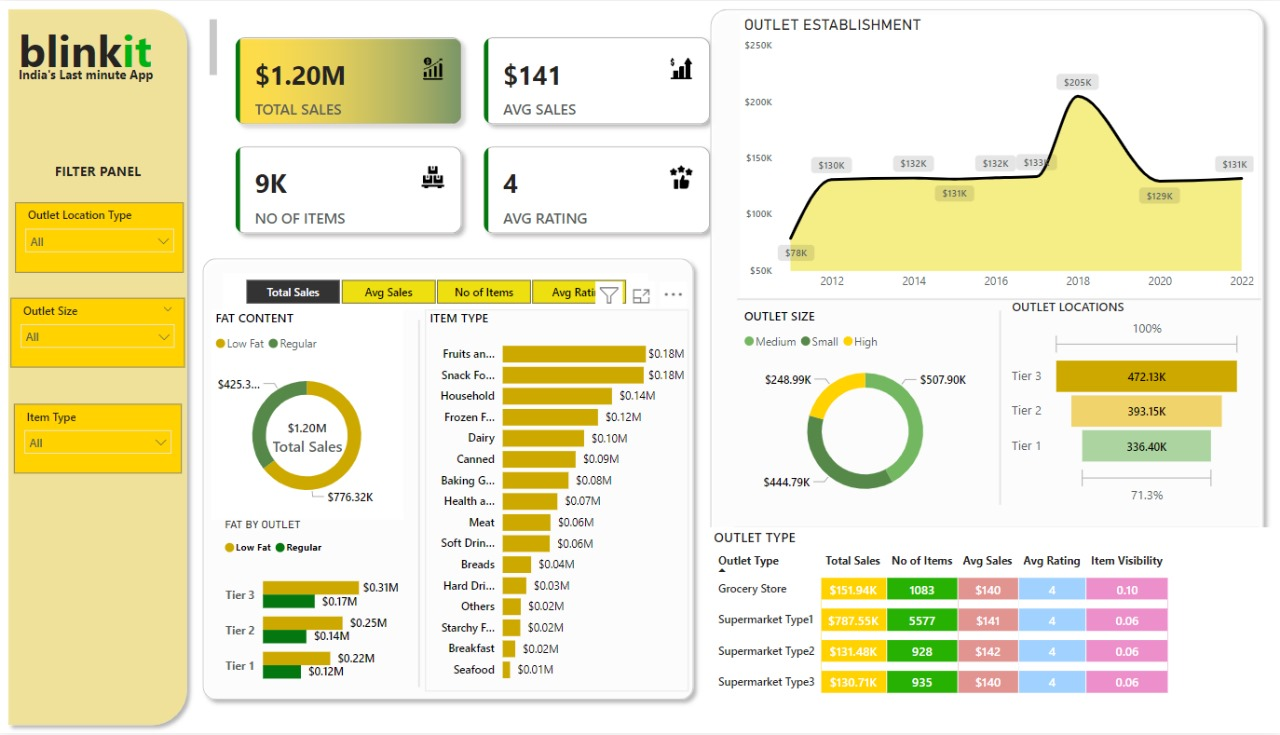

Layout of this report page (visuals, bound fields, positions):
{"tool":"powerbi","page":{"name":"Page 1","canvas":[1400,800],"ordinal":0},"visuals":[{"type":"shape","box":[0,0,213.3,800],"z":500},{"type":"textbox","box":[15.8,66.7,182.5,28.3],"z":1000},{"type":"textbox","box":[15.8,15,226.7,72.5],"z":2000},{"type":"cardVisual","fields":{"Data":["BlinkIT Grocery Data.Total Sales","BlinkIT Grocery Data.Avg Sales","BlinkIT Grocery Data.No of Items","BlinkIT Grocery Data.Avg Rating"]},"box":[239.9,22.8,553.6,249.3],"z":3000},{"type":"shape","box":[212.5,271.7,554,500],"z":4000},{"type":"donutChart","title":"FAT CONTENT","fields":{"Y":["BlinkIT Grocery Data.Total Sales"],"Category":["BlinkIT Grocery Data.Item Fat Content"]},"box":[230,337.3,210,230],"z":5000},{"type":"slicer","fields":{"Values":["Metrics.Metrics"]},"box":[242.5,297.5,465,40],"z":6000},{"type":"cardVisual","fields":{"Data":["BlinkIT Grocery Data.Total Sales"]},"box":[250,440,170,70],"z":7000},{"type":"clusteredBarChart","title":"FAT BY OUTLET","fields":{"Y":["BlinkIT Grocery Data.Total Sales"],"Category":["BlinkIT Grocery Data.Outlet Location Type"],"Series":["BlinkIT Grocery Data.Item Fat Content"]},"box":[240,564.3,200,197.1],"z":8000},{"type":"shape","box":[360,349.1,195.5,400.9],"z":9000},{"type":"barChart","title":"ITEM TYPE","fields":{"Y":["BlinkIT Grocery Data.Total Sales"],"Category":["BlinkIT Grocery Data.Item Type"]},"box":[463.6,337.3,288.2,417.3],"z":10000},{"type":"shape","box":[766.7,0,622.2,734.4],"z":11000},{"type":"lineChart","title":"OUTLET ESTABLISHMENT","fields":{"Category":["BlinkIT Grocery Data.Outlet Establishment Year"],"Y":["BlinkIT Grocery Data.Total Sales"]},"box":[807.8,15.6,566.7,308.9],"z":12000},{"type":"shape","box":[805.6,230,572.2,191.1],"z":13000},{"type":"donutChart","title":"OUTLET SIZE","fields":{"Y":["BlinkIT Grocery Data.Total Sales"],"Category":["BlinkIT Grocery Data.Outlet Size"]},"box":[807.8,334.4,275,225],"z":14000},{"type":"shape","box":[994.4,337.8,195.6,212.2],"z":15000},{"type":"funnel","title":"OUTLET LOCATIONS","fields":{"Y":["Sum(BlinkIT Grocery Data.Sales)"],"Category":["BlinkIT Grocery Data.Outlet Location Type"]},"box":[1100,324.4,261,230],"z":16000},{"type":"shape","box":[802,480,572,192],"z":17000},{"type":"pivotTable","title":"OUTLET TYPE","fields":{"Rows":["BlinkIT Grocery Data.Outlet Type"],"Values":["BlinkIT Grocery Data.Total Sales","BlinkIT Grocery Data.No of Items","BlinkIT Grocery Data.Avg Sales","BlinkIT Grocery Data.Avg Rating","Avg(BlinkIT Grocery Data.Item Visibility)"]},"box":[774.8,575.1,620.6,207.8],"z":18000},{"type":"slicer","fields":{"Values":["BlinkIT Grocery Data.Outlet Location Type"]},"box":[17.1,220,184.3,77.1],"z":19000},{"type":"slicer","fields":{"Values":["BlinkIT Grocery Data.Outlet Size"]},"box":[11.4,324.3,190,75.7],"z":20000},{"type":"slicer","fields":{"Values":["BlinkIT Grocery Data.Item Type"]},"box":[15.7,440,182.9,75.7],"z":21000},{"type":"textbox","box":[32.2,170.2,150.1,46.9],"z":22000}]}

Visuals, with their boxes in screenshot pixels (x1, y1, x2, y2), scaled from the page's 1400x800 canvas onto the 1280x735 screenshot:
shape: 0,0,195,734
textbox: 14,61,181,87
textbox: 14,14,222,80
cardVisual - BlinkIT Grocery Data.Total Sales x BlinkIT Grocery Data.Avg Sales: 219,21,725,250
shape: 194,250,701,709
"FAT CONTENT" donutChart: 210,310,402,521
slicer - Metrics.Metrics: 222,273,647,310
cardVisual - BlinkIT Grocery Data.Total Sales: 229,404,384,469
"FAT BY OUTLET" clusteredBarChart: 219,518,402,700
shape: 329,321,508,689
"ITEM TYPE" barChart: 424,310,687,693
shape: 701,0,1270,675
"OUTLET ESTABLISHMENT" lineChart: 739,14,1257,298
shape: 737,211,1260,387
"OUTLET SIZE" donutChart: 739,307,990,514
shape: 909,310,1088,505
"OUTLET LOCATIONS" funnel: 1006,298,1244,509
shape: 733,441,1256,617
"OUTLET TYPE" pivotTable: 708,528,1276,719
slicer - BlinkIT Grocery Data.Outlet Location Type: 16,202,184,273
slicer - BlinkIT Grocery Data.Outlet Size: 10,298,184,368
slicer - BlinkIT Grocery Data.Item Type: 14,404,182,474
textbox: 29,156,167,199
